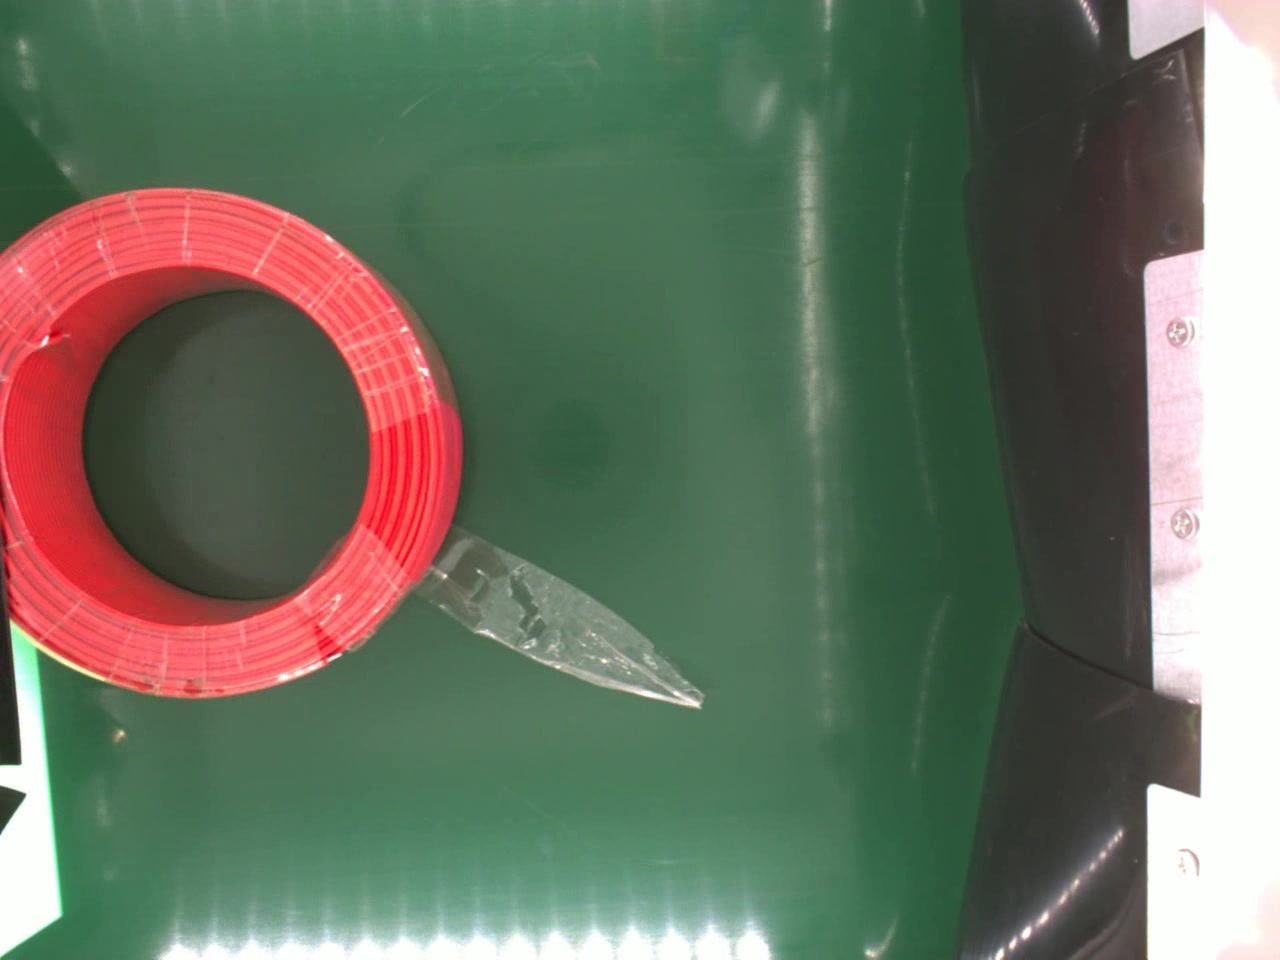red: (0, 182, 469, 705)
